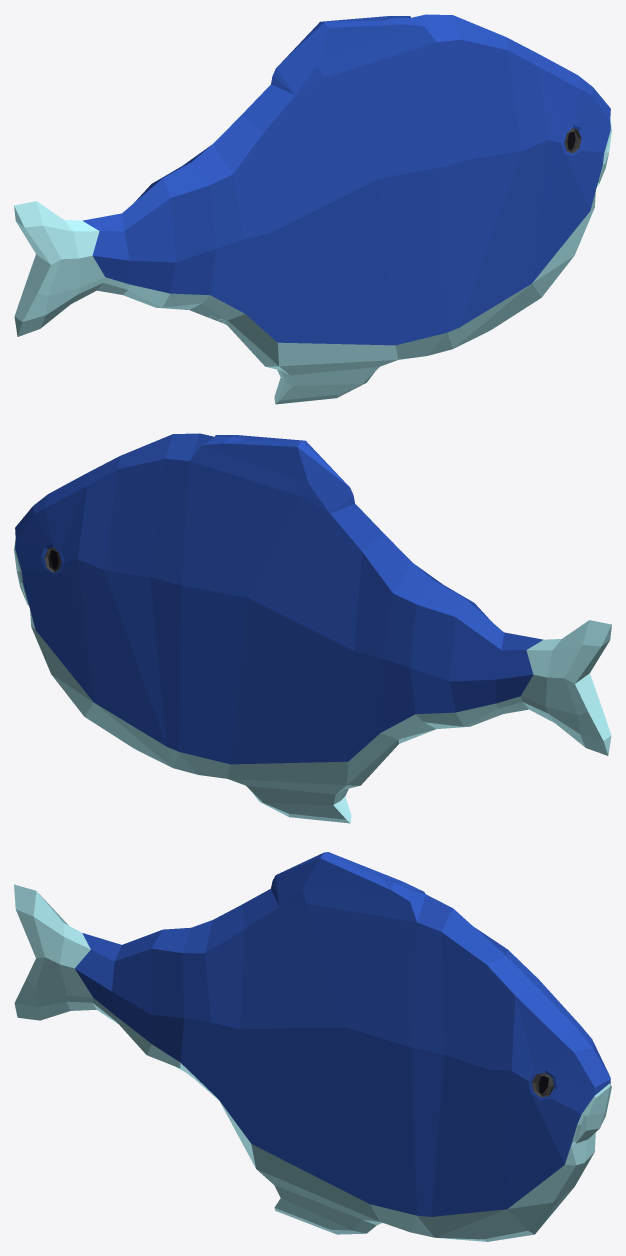
The model's file is FishV4_1.fbx.
3 views of the same model, one above another, from view 1: azimuth 30°, elevation 25°; view 2: azimuth 150°, elevation 25°; view 3: azimuth 330°, elevation 25° (orthographic).
Parts seen in each view (by area): view 1: FishV4_1; view 2: FishV4_1; view 3: FishV4_1.
Part boxes in pixels (bbox=[...]): FishV4_1: bbox=[14, 14, 611, 404]; FishV4_1: bbox=[14, 433, 611, 823]; FishV4_1: bbox=[14, 852, 611, 1241].
Bounding box in the file's own units: 199 × 121 × 21.18.
